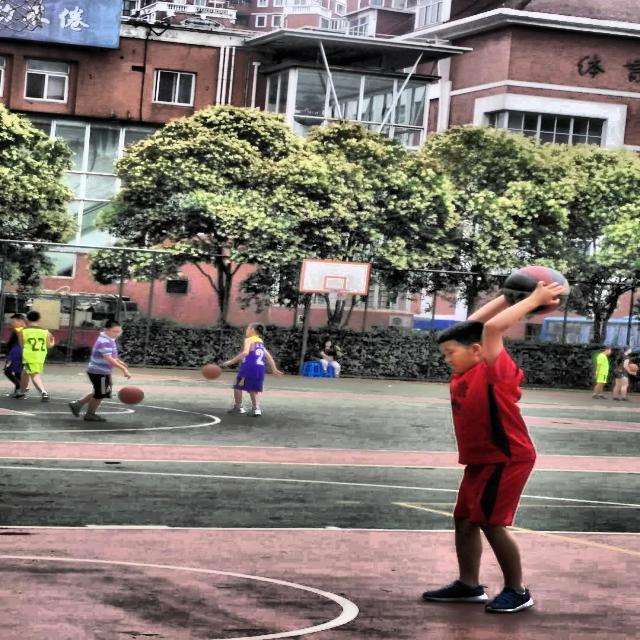board: (502, 265, 570, 316), (118, 386, 144, 404), (202, 364, 221, 379)
